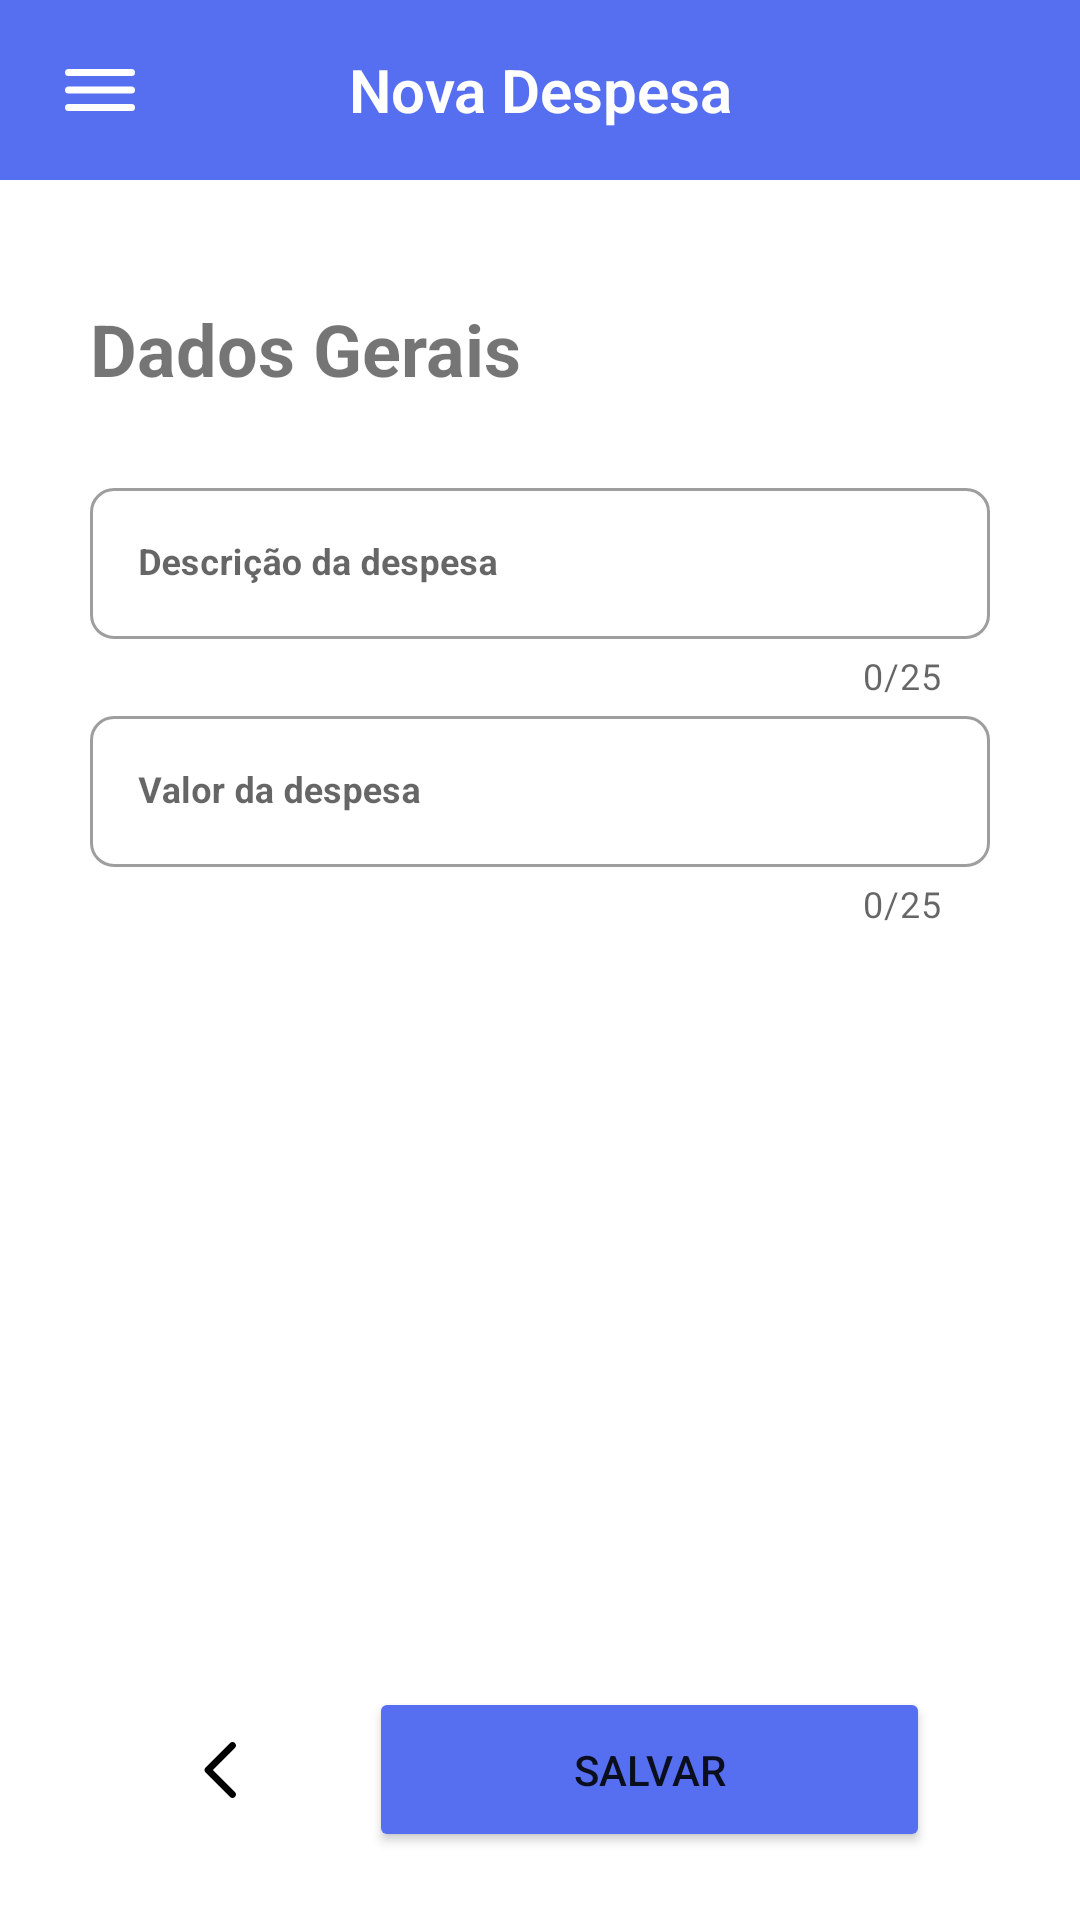

Where icons sit on this 1080x1920 app screen, as box(x1, y1, x2, y2):
chevron left: box(204, 1742, 236, 1798)
hamburger lg: box(65, 69, 135, 111)
